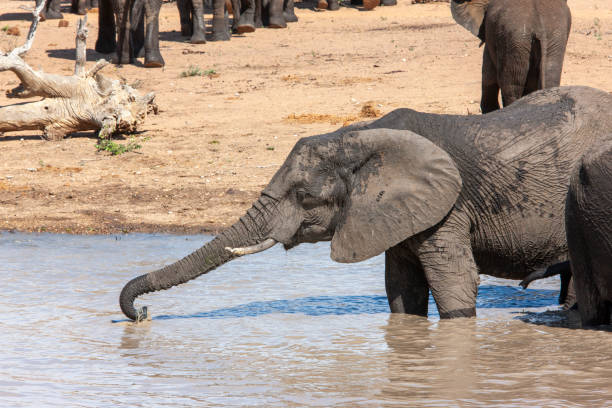africanelephant: (188, 122, 466, 277)
